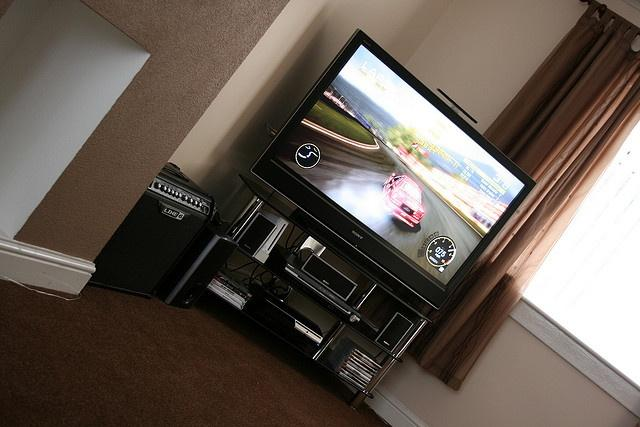AIO PC-Monitor-TV: (249, 27, 535, 309)
